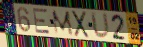2: (110, 13, 128, 42)
6: (16, 7, 31, 34)
E: (32, 8, 52, 36)
M: (51, 10, 75, 37)
U: (90, 11, 111, 41)
X: (71, 10, 90, 39)
